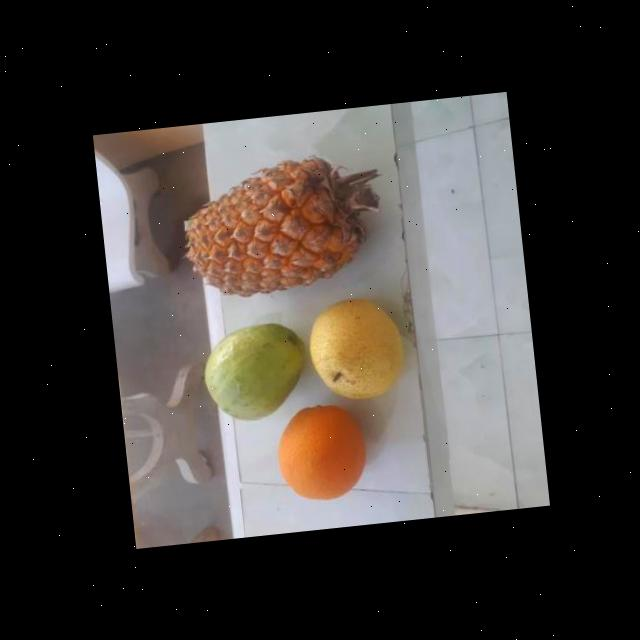guava: (200, 319, 306, 424)
orange: (267, 398, 368, 507)
pear: (304, 290, 408, 404)
pineapple: (181, 150, 377, 296)
